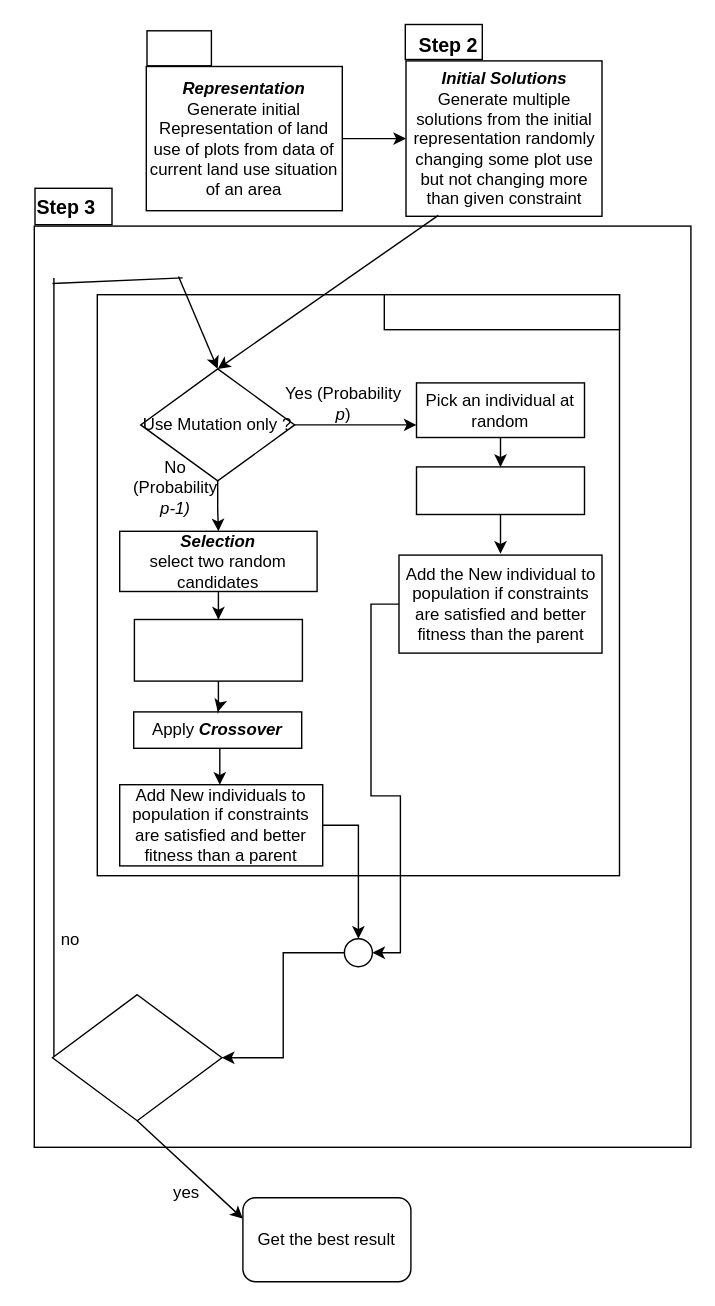
The diagram is 715 pixels wide and 1306 high, and some of its shapes have lost their labels. Here are the shapes that lost their labels. From the top down, the box of each, then its label:
(146, 29, 211, 66): Step 1
(383, 293, 620, 330): This Runs For 100 iterations
(415, 465, 584, 514): Mutate the individual
(133, 618, 302, 681): Mutation use mutation on the two individuals
(51, 993, 222, 1121): Has ran for predefined n generations?
